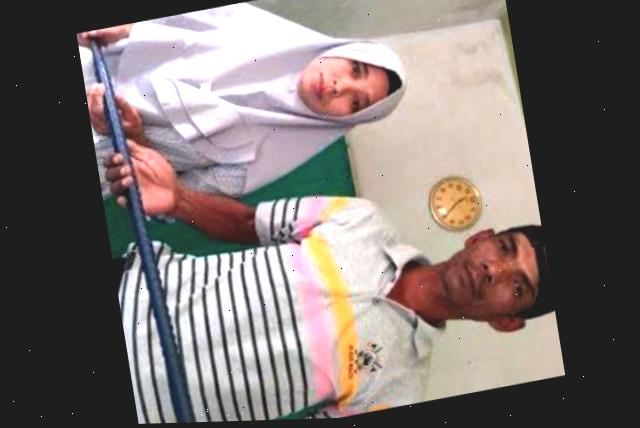crow bar: (80, 30, 198, 424)
